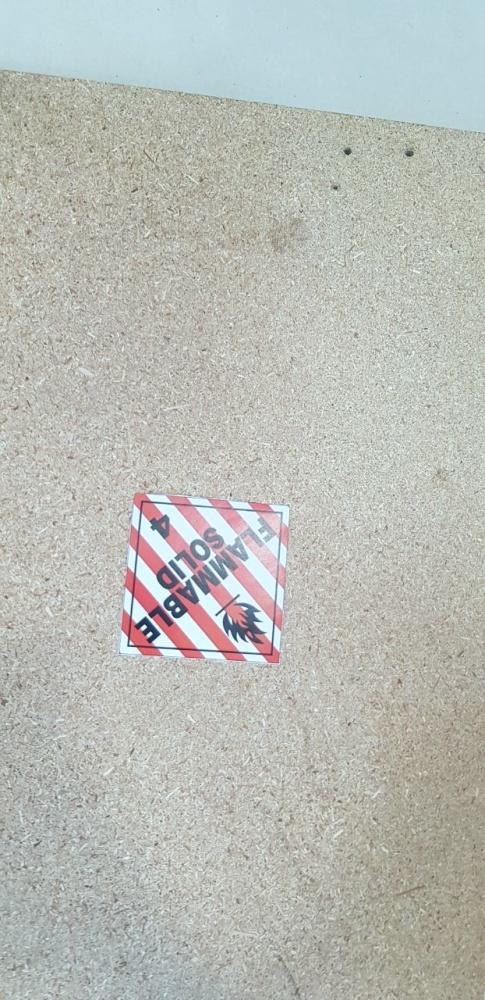flammable-solid: (118, 491, 294, 667)
